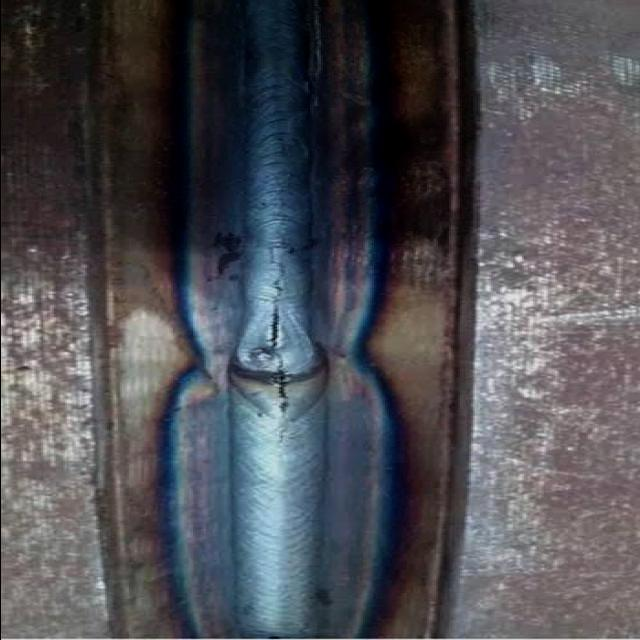defect: (259, 244, 294, 420)
